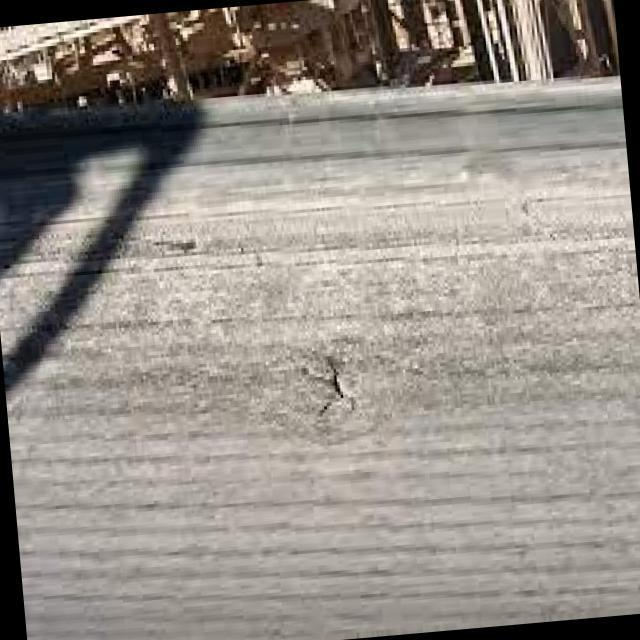Tear: (294, 335, 368, 431), (113, 220, 205, 266)
